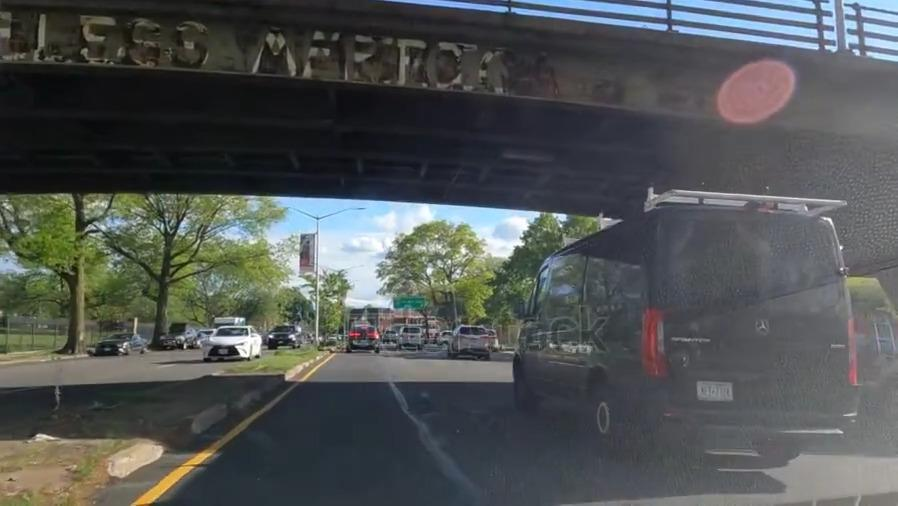car: (203, 328, 262, 359), (448, 327, 489, 357), (102, 331, 143, 355), (345, 327, 381, 353), (156, 326, 195, 346), (267, 325, 298, 346), (397, 328, 423, 349), (490, 329, 500, 348)
van: (525, 239, 860, 453)
wheel: (579, 373, 620, 463)
